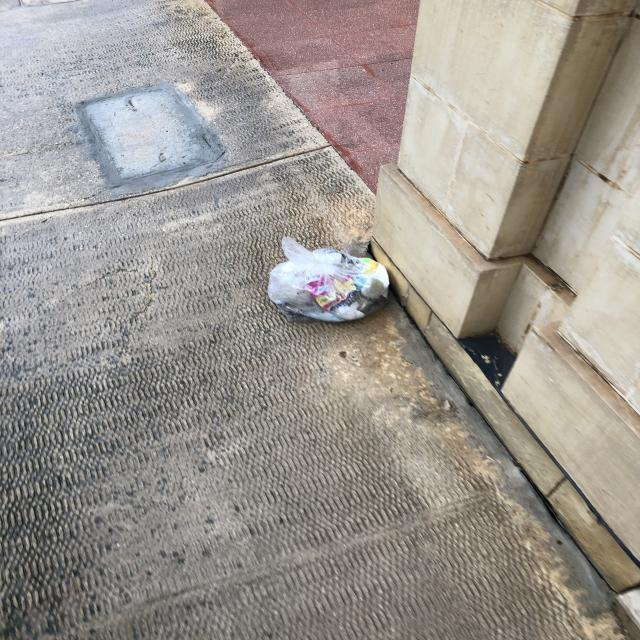Organic Waste -White Bag-: (270, 241, 394, 326)
